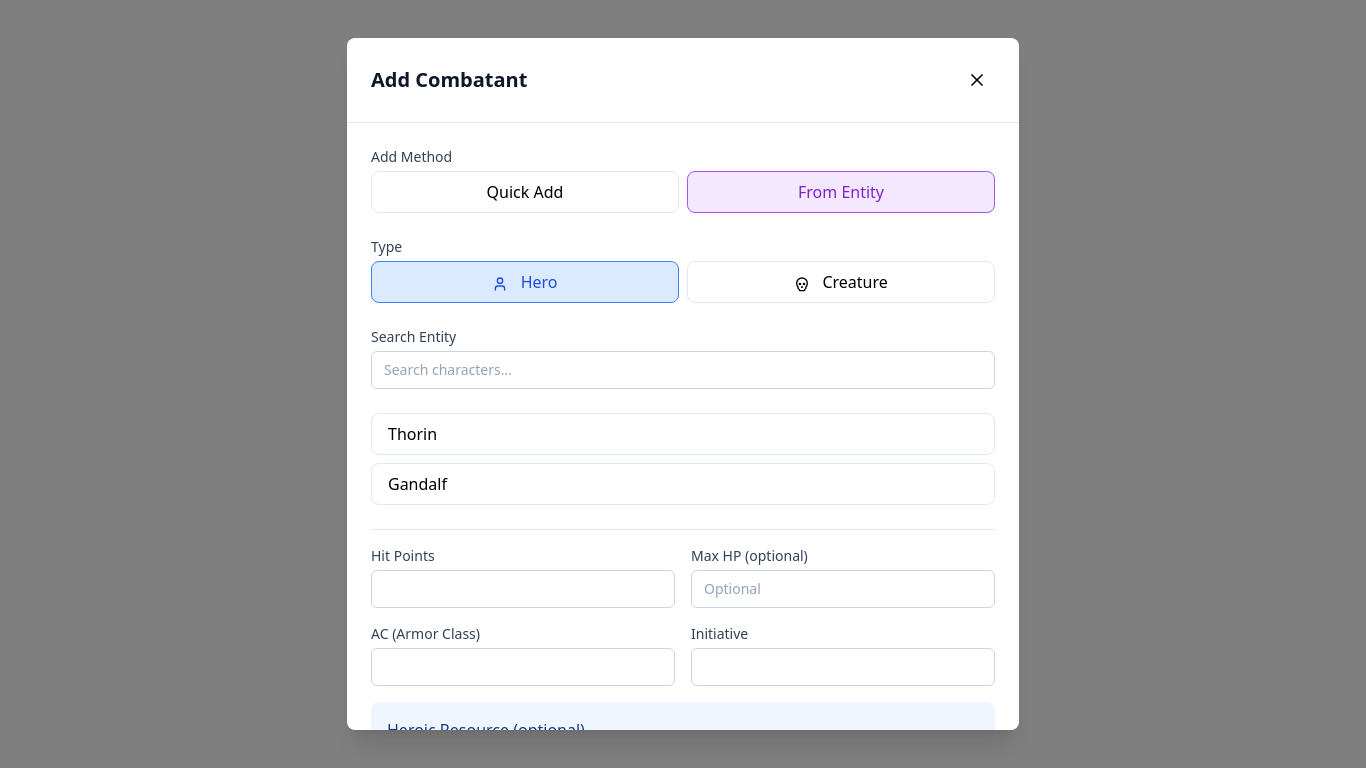
Scenario: AddCombatantModal - Entity Selection › should show "No entities found" when search has no results
Type "NotFoundEntity" into the field labelled "Search Entity".
click(683, 370); type("NotFoundEntity")  # box [371,351,995,389]
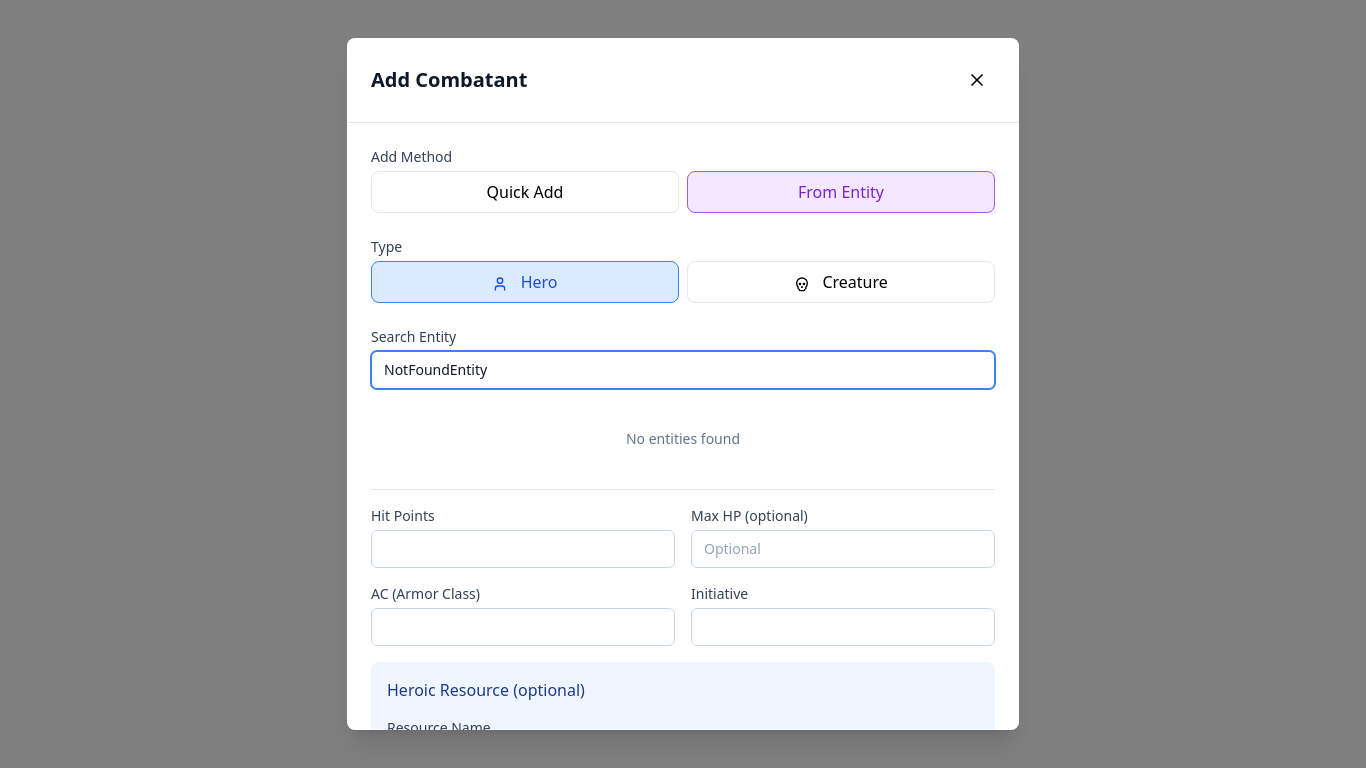
Now the text "No entities found" is shown, box [626,429,740,448]
